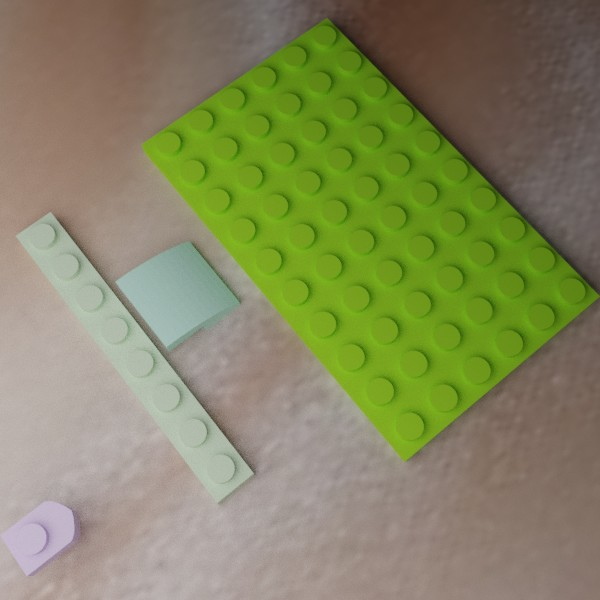lego: (141, 17, 599, 462), (15, 211, 254, 504), (115, 241, 240, 351), (0, 501, 80, 576)
